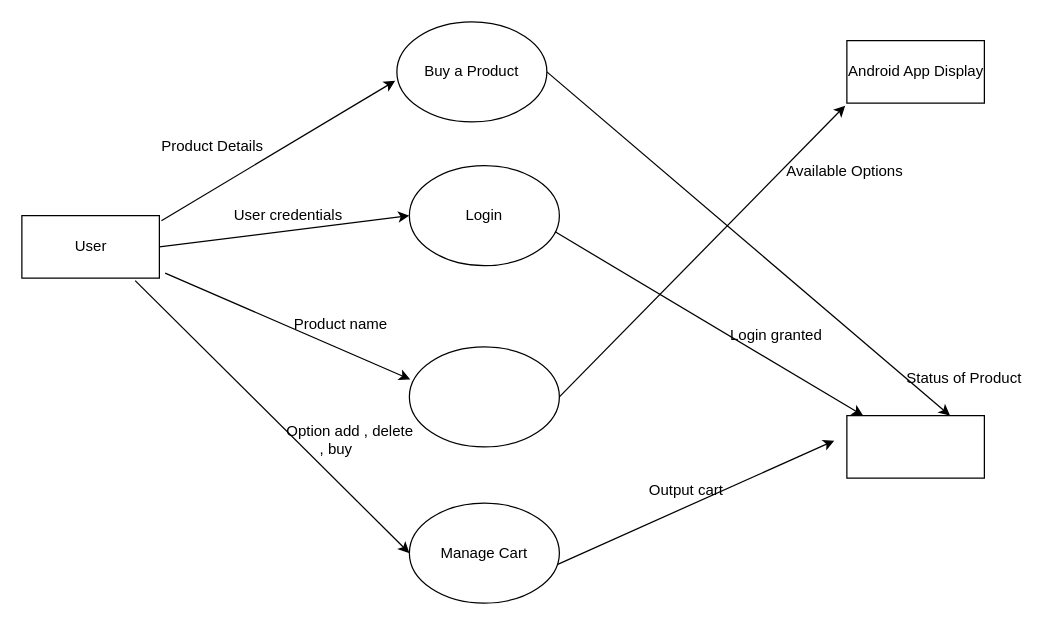
This 1064x625 diagram has some shape labels left out. The box of each missing label's shape, as (x1, y1, x2, y2) in pixels:
Search for Product: (408, 346, 559, 447)
Server: (846, 414, 984, 478)
